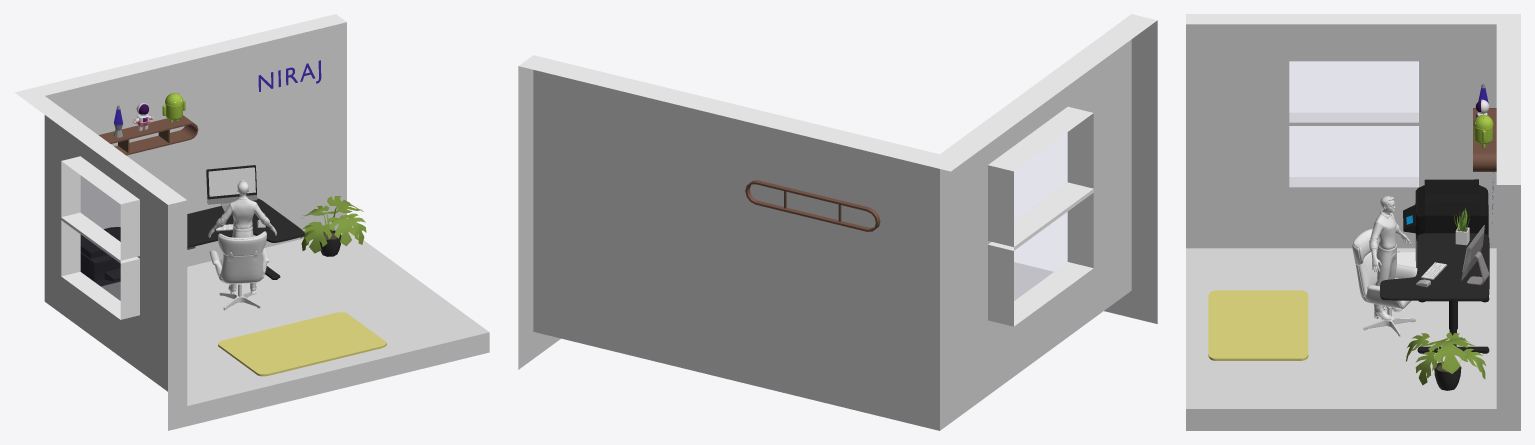
The model's file is old_scene.gltf.
3 renders of one model, left to right at view 1: azimuth 30°, elevation 25°; view 2: azimuth 150°, elevation 25°; view 3: azimuth 270°, elevation 25°, orthographic. The views are drawn at different scales.
Visible parts, largest first — view 1: Plane, WawaRug, office-chair, Desk, Houseplant_7, SM_Shelf:SM_Shelf1, Xerox, Screen, Wolf3D_Outfit_Top, iMac, AndroidToy, TextName; view 2: Plane, SM_Shelf:SM_Shelf1; view 3: Plane, WawaRug, Desk, Xerox, Houseplant_7, office-chair, SM_Shelf:SM_Shelf1, Wolf3D_Outfit_Top, iMac, Wolf3D_Outfit_Bottom, AndroidToy, plant.
Part boxes in pixels (x1,y1,x2,y2): Plane: [14, 14, 489, 430]; WawaRug: [218, 312, 386, 376]; office-chair: [209, 231, 269, 310]; Desk: [187, 198, 304, 279]; Houseplant_7: [300, 196, 366, 256]; SM_Shelf:SM_Shelf1: [98, 115, 198, 155]; Xerox: [80, 227, 120, 300]; Screen: [209, 167, 255, 196]; Wolf3D_Outfit_Top: [216, 197, 269, 229]; iMac: [206, 165, 257, 211]; AndroidToy: [162, 92, 185, 123]; TextName: [258, 60, 321, 91]; Plane: [518, 14, 1157, 430]; SM_Shelf:SM_Shelf1: [745, 180, 880, 231]; Plane: [1186, 14, 1520, 430]; WawaRug: [1208, 290, 1308, 360]; Desk: [1380, 233, 1489, 353]; Xerox: [1397, 179, 1488, 267]; Houseplant_7: [1405, 332, 1486, 390]; office-chair: [1352, 228, 1417, 336]; SM_Shelf:SM_Shelf1: [1473, 108, 1496, 171]; Wolf3D_Outfit_Top: [1369, 209, 1399, 250]; iMac: [1461, 225, 1489, 285]; Wolf3D_Outfit_Bottom: [1373, 243, 1397, 312]; AndroidToy: [1473, 112, 1493, 148]; plant: [1454, 208, 1469, 245].
Size of the model in its own units: 5.72 by 3.84 by 4.74.
